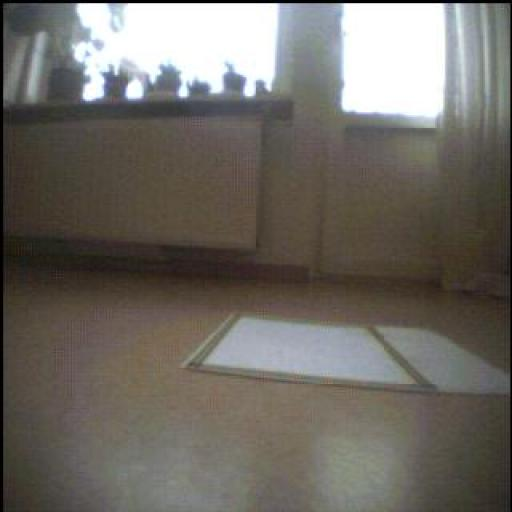Pad: (185, 308, 512, 395)
